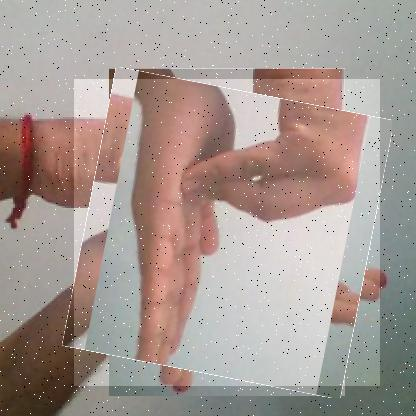Z: (74, 79, 381, 387)
